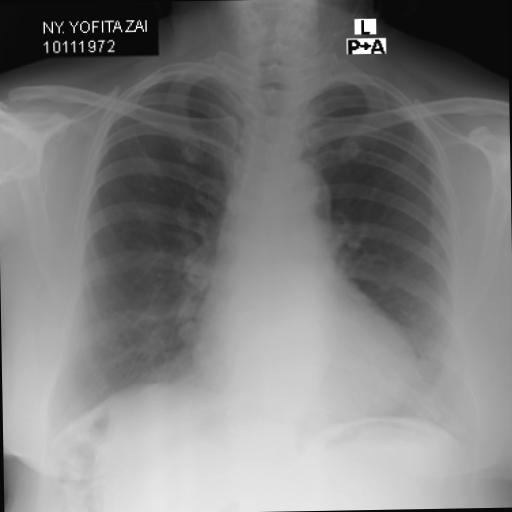kardiomegali: (34, 40, 478, 470)
